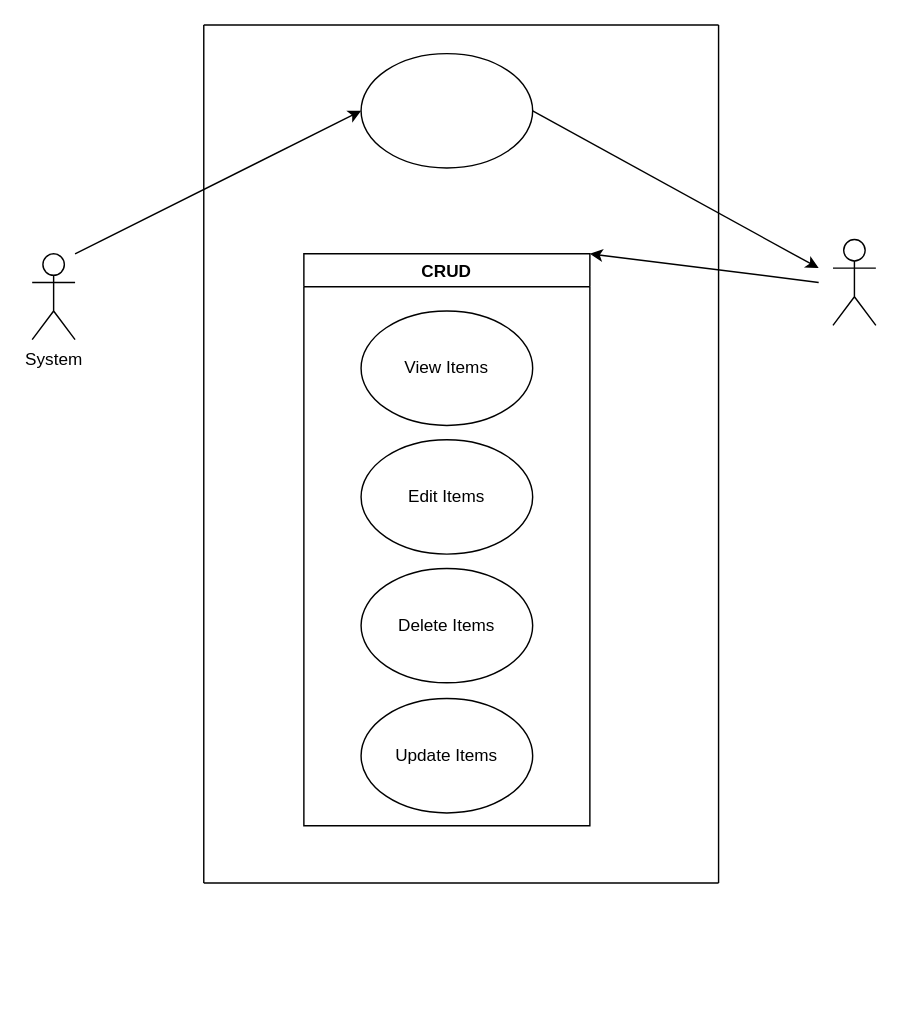
This 905x1034 diagram has some shape labels left out. The shapes that lost their labels are listed below. From the top down, each one's box as (x1, y1, x2, y2) in pixels, then its label:
(360, 52, 533, 168): View
(832, 238, 876, 325): Person
